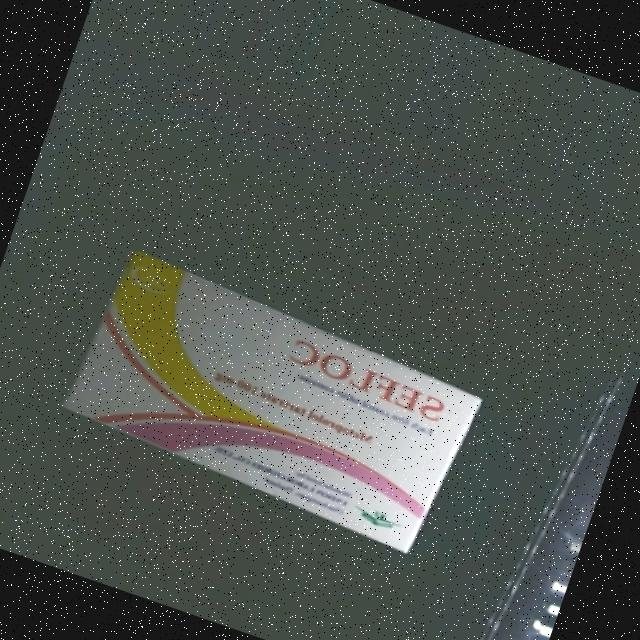sefloc: (63, 246, 482, 555)
